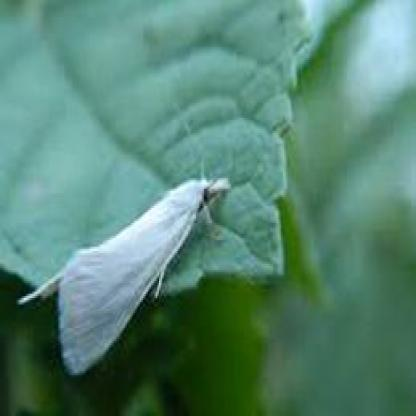stem-borer: (16, 172, 232, 380)
